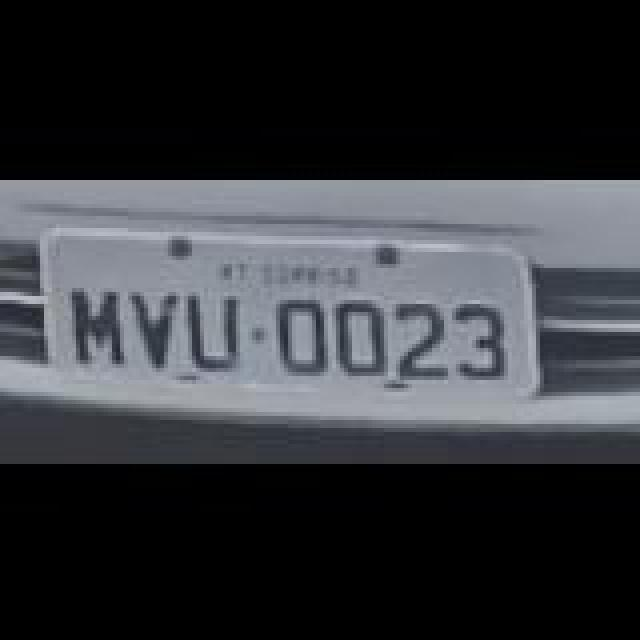2: (390, 298, 450, 374)
3: (454, 302, 514, 378)
D: (272, 298, 336, 374), (334, 298, 394, 374)
M: (64, 284, 128, 364)
U: (186, 290, 246, 366)
V: (132, 288, 188, 368)
